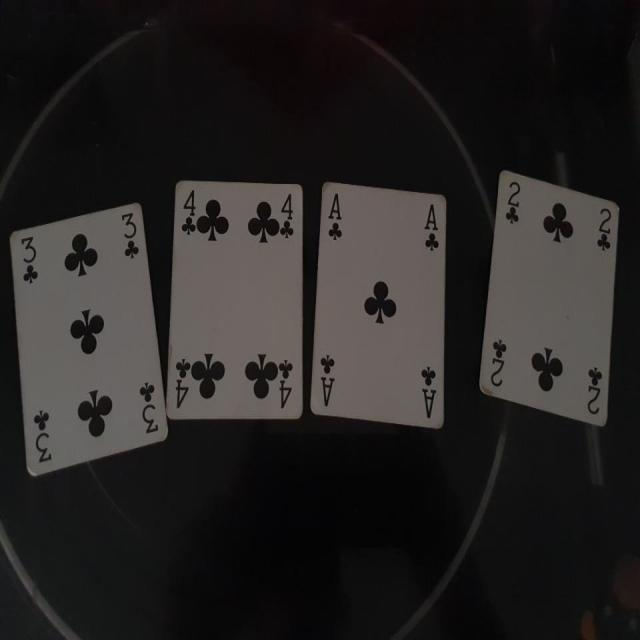2 Trefoils: (478, 166, 619, 430)
3 Trefoils: (7, 200, 170, 477)
4 Trefoils: (166, 180, 306, 422)
A Trefoils: (310, 177, 447, 430)
